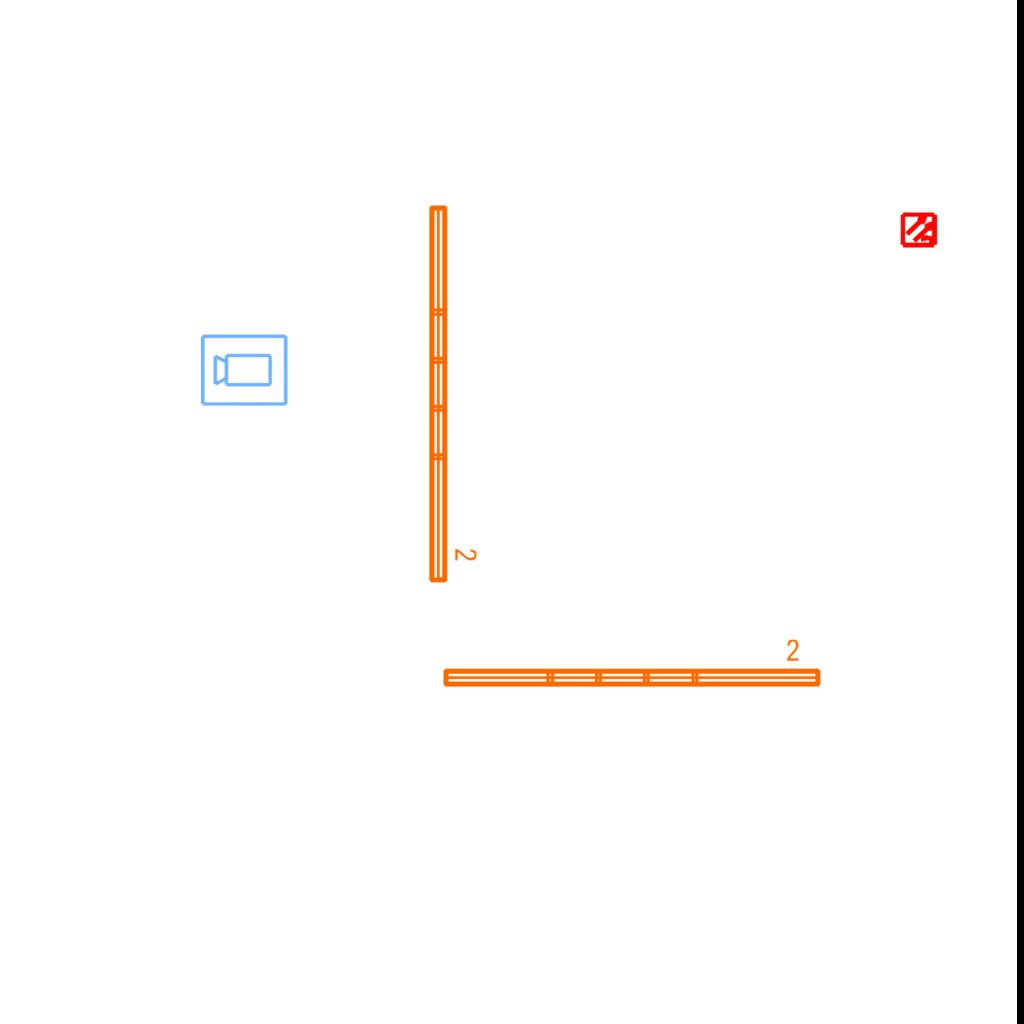Ambulanz_Pendelleuchte_LED: (423, 200, 479, 587), (438, 637, 825, 693)
KFO_Kamera_mit_Festobjektiv: (199, 331, 290, 408)
OT_Multisensormelder_(Kombination_RMO_WMD): (892, 202, 948, 258)
